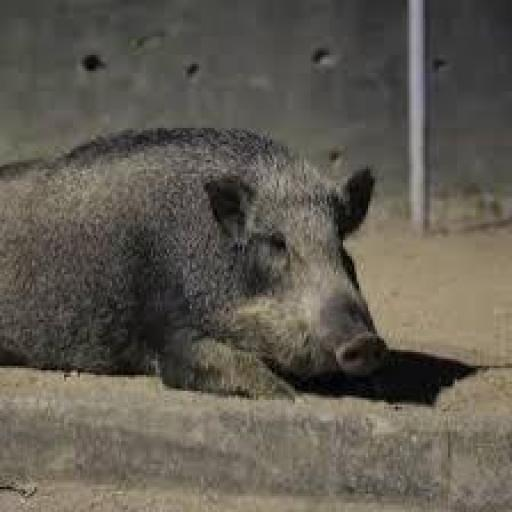Pig: (0, 119, 393, 411)
